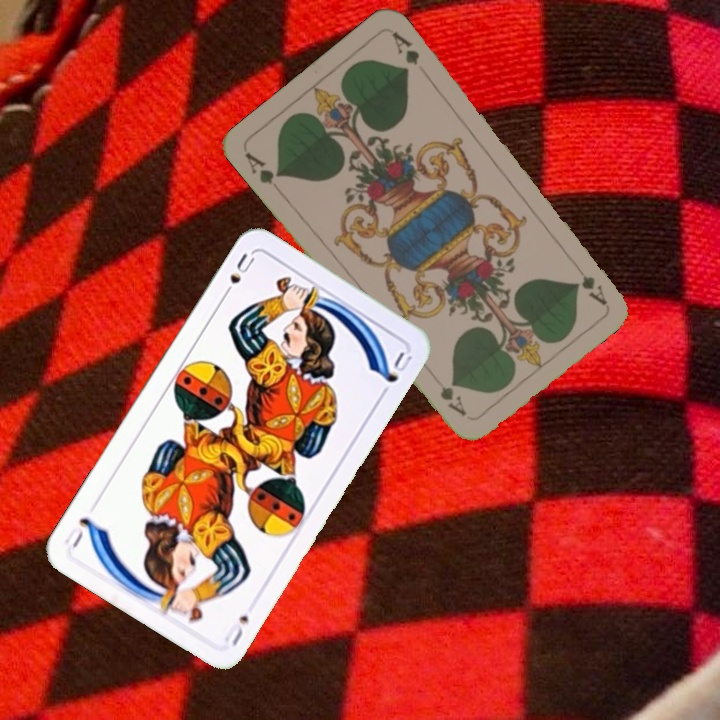GA: (567, 256, 609, 308), (240, 147, 285, 188)
SU: (217, 249, 258, 302), (220, 610, 251, 649)
